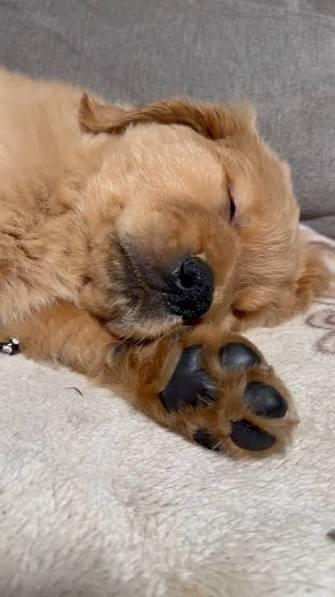puppy-dog: (0, 59, 333, 462)
